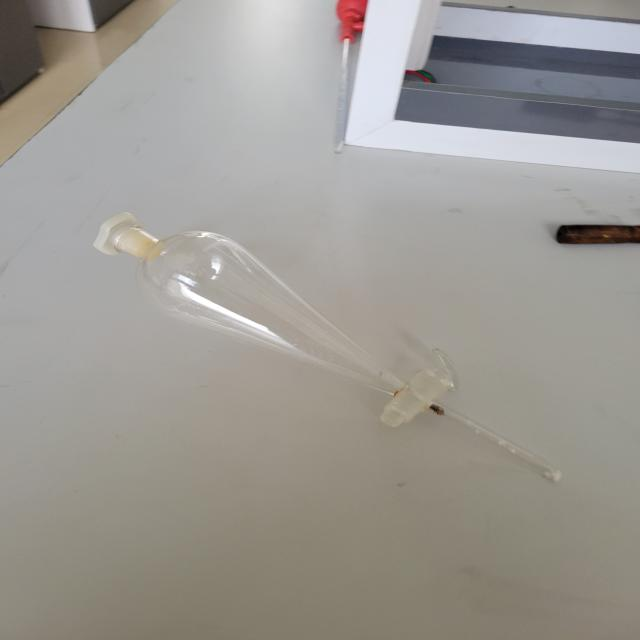Separating_Funnel: (70, 180, 596, 513)
